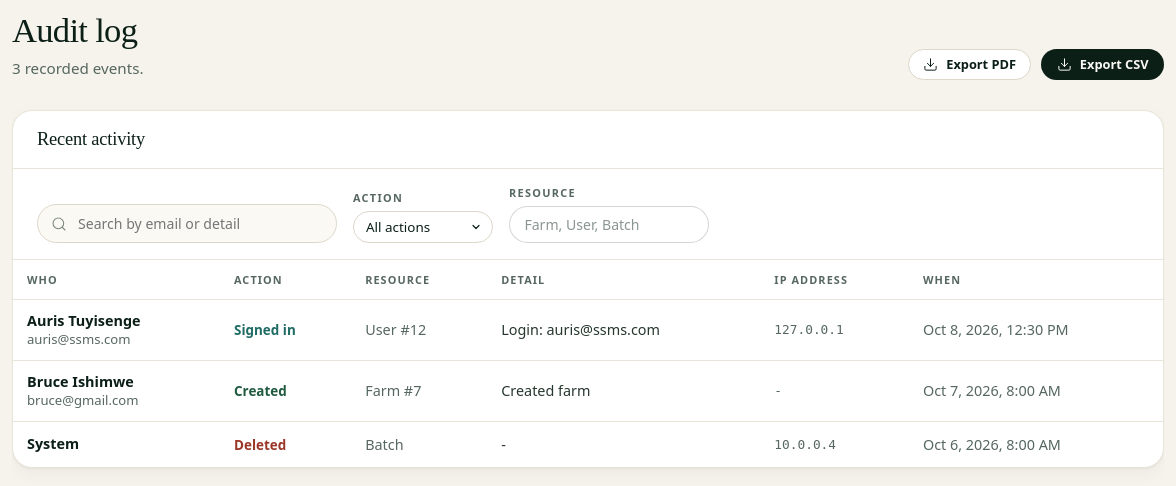
Test: Audit log page › shows Reset only while a filter is set, and clears every filter with it
Expected: the text "Bruce Ishimwe" is shown, [27,372,134,391]
Expected: the button "Reset" is not shown
Type "Farm" into the field labelled "Resource" at (609, 224), box [509,206,709,243]
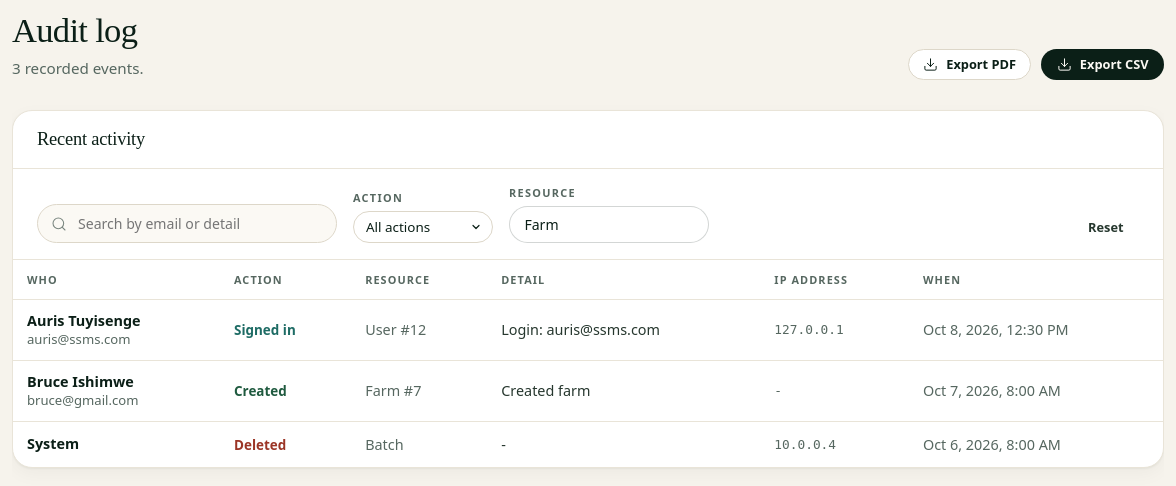
Click the button "Reset" at (1106, 228), box [1073,212,1139,243]
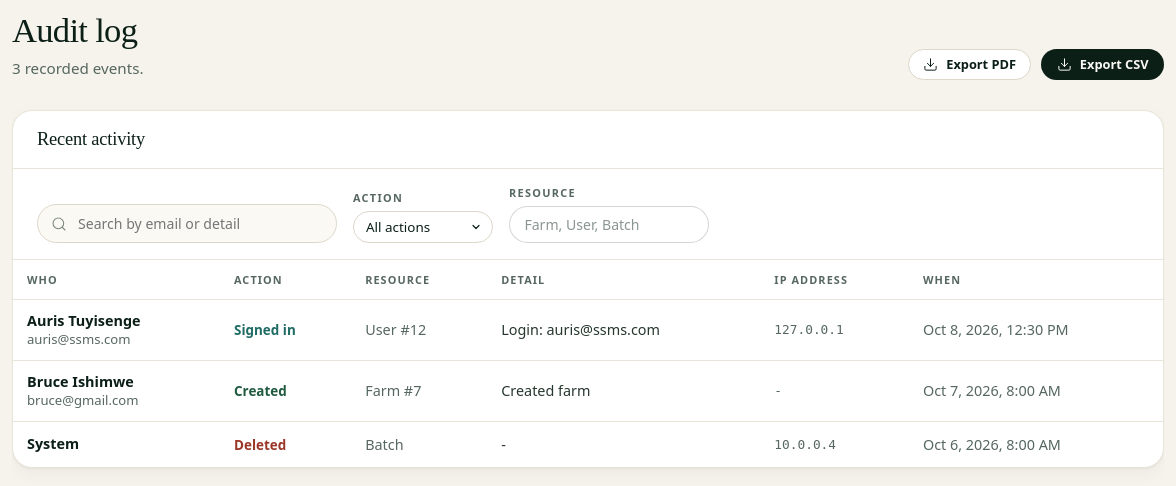
Expected: the field labelled "Resource" is empty, [509,206,709,243]
Expected: the button "Reset" is gone
